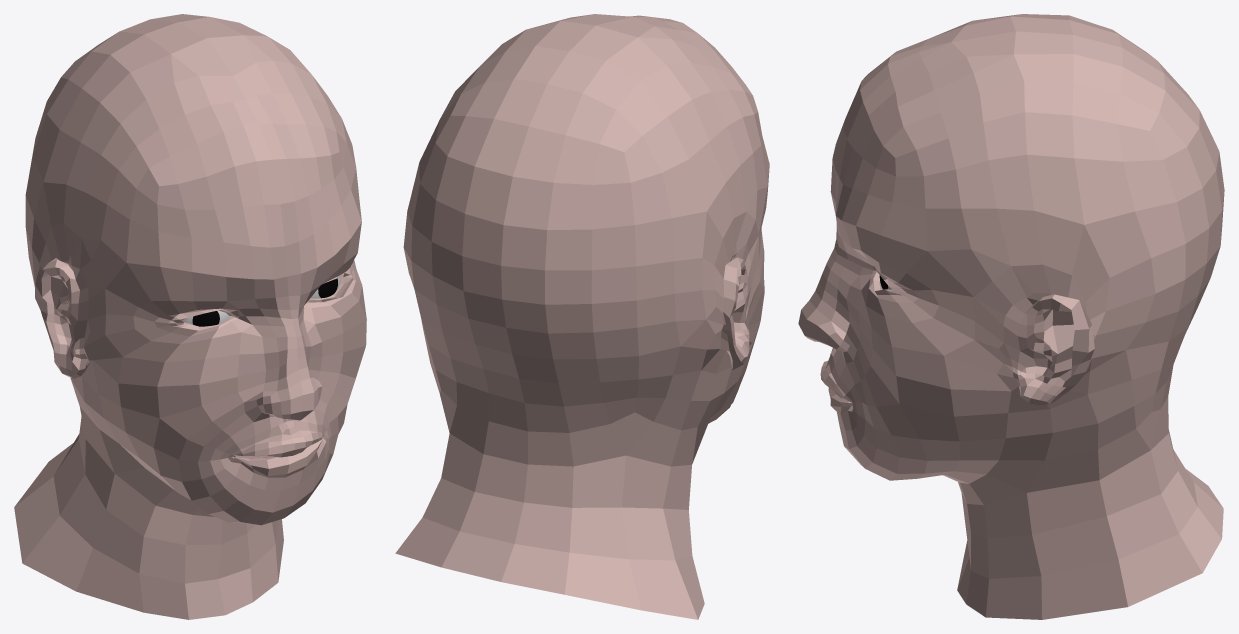
File: TestHead.fbx
3 renders of one model, left to right at view 1: azimuth 30°, elevation 25°; view 2: azimuth 150°, elevation 25°; view 3: azimuth 270°, elevation 25°, orthographic.
Parts seen in each view (by area): view 1: Group2, polySurface13; view 2: Group2; view 3: Group2.
Boxes of the visible parts, bbox=[...] form: Group2: bbox=[14, 14, 366, 619]; polySurface13: bbox=[184, 310, 231, 326]; Group2: bbox=[395, 14, 769, 619]; Group2: bbox=[798, 14, 1224, 619].
Bounding box in the file's own units: 11.39 × 19.66 × 13.46.
